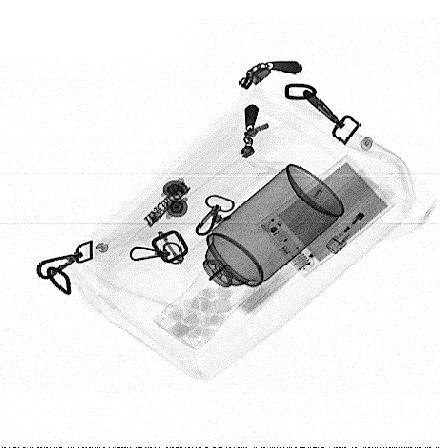Lighter: (324, 185, 396, 256)
Powerbank: (256, 154, 397, 278)
Sprayer: (175, 164, 345, 314)
